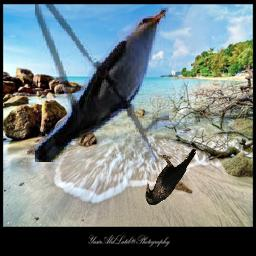Crow: (146, 149, 197, 206)
Cuckoo: (35, 4, 169, 162)
